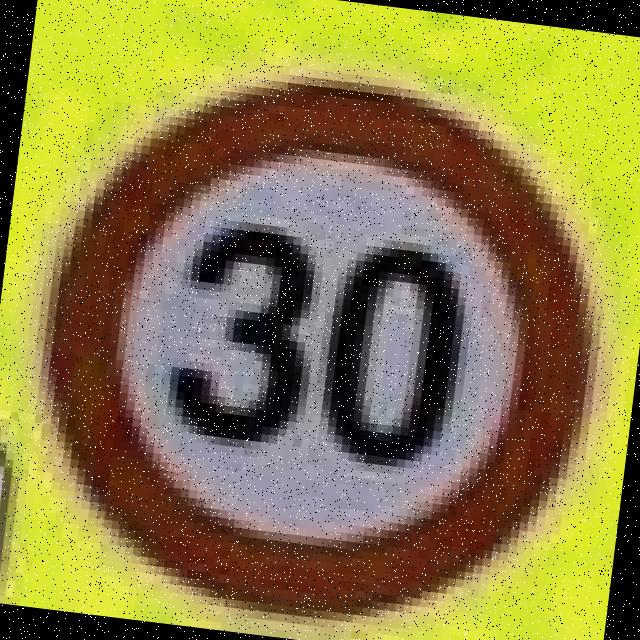Ograniczenie predkosci do 30: (6, 40, 619, 640)
